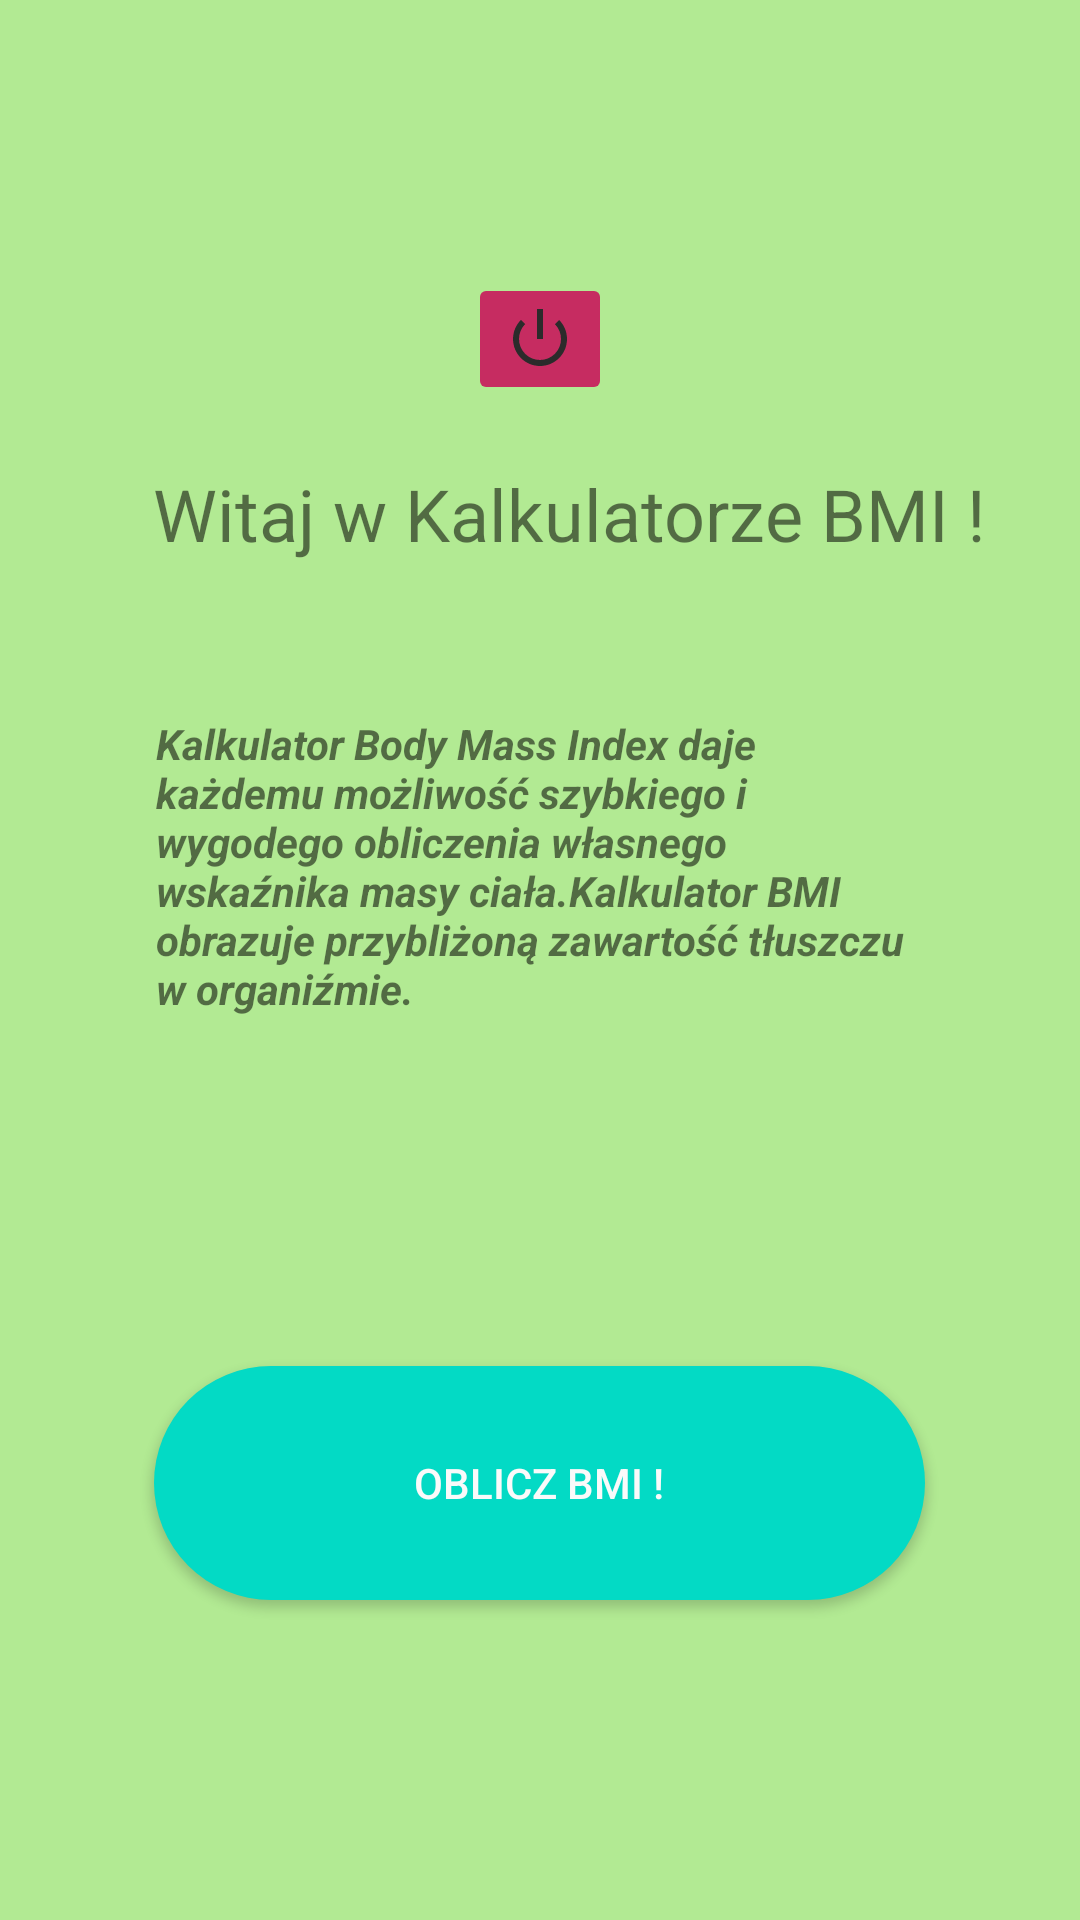

Icons on this 1080w x 1920h Android screen, each with the point to tap as [x,y]:
Zamknij App: [540,339]
